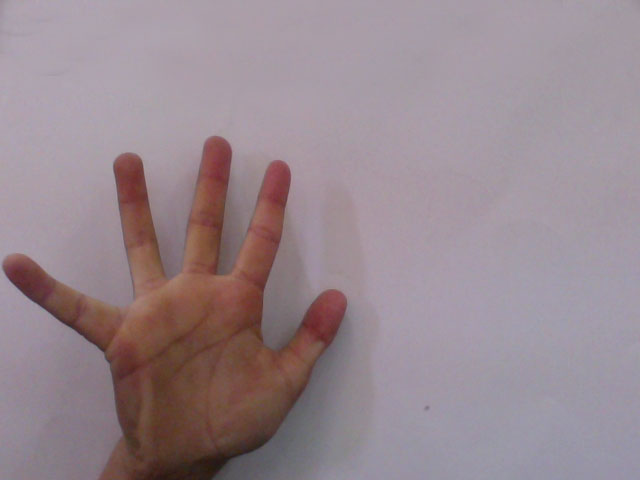hand: (1, 124, 356, 460)
